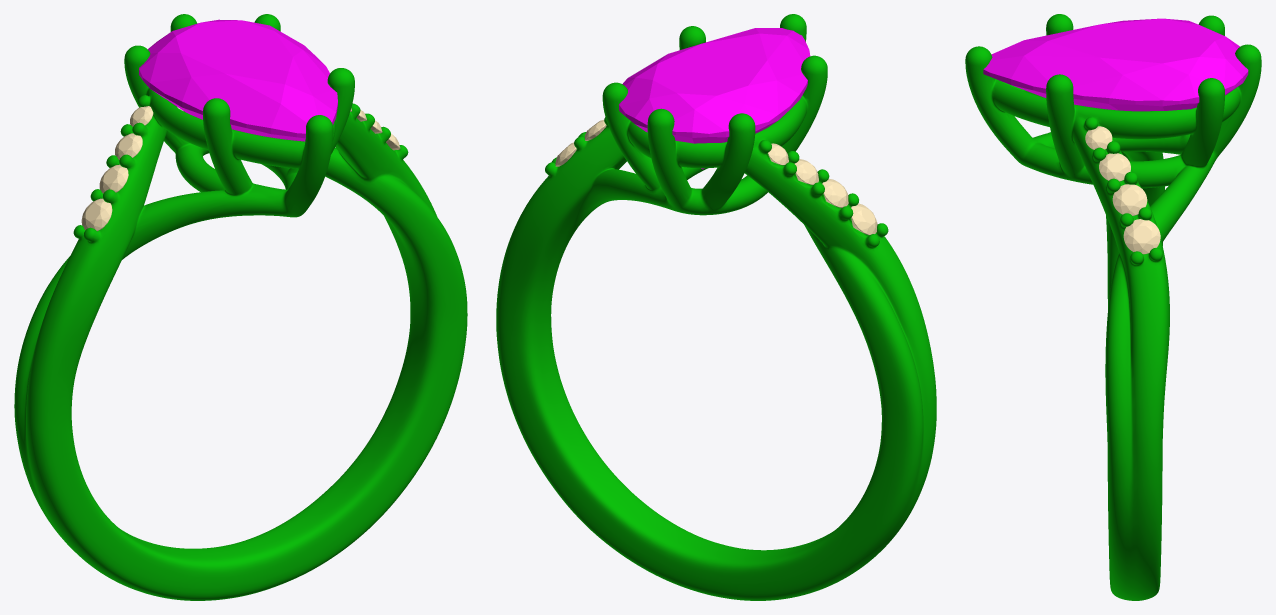
Rendered from BE1AS8PD08_PE_200ct_RENDER.glb.
The picture shows the model from 3 angles, left to right: view 1: azimuth 30°, elevation 25°; view 2: azimuth 150°, elevation 25°; view 3: azimuth 270°, elevation 25°; orthographic projection. The views are drawn at different scales.
Parts seen in each view (by area): view 1: Metal 01, CS_Diamond_Pear, Diamond_Round_Gem_SH, Diamond_Round_Gem_SH.001; view 2: Metal 01, CS_Diamond_Pear, Diamond_Round_Gem_SH; view 3: Metal 01, CS_Diamond_Pear, Diamond_Round_Gem_SH.007, Diamond_Round_Gem_SH.006, Diamond_Round_Gem_SH.005, Diamond_Round_Gem_SH.004.
Boxes of the visible parts, <box> form: Metal 01: <box>14,14,467,600</box>; CS_Diamond_Pear: <box>139,19,337,141</box>; Diamond_Round_Gem_SH: <box>81,198,112,231</box>; Diamond_Round_Gem_SH.001: <box>99,164,128,193</box>; Metal 01: <box>496,14,936,600</box>; CS_Diamond_Pear: <box>619,28,810,169</box>; Diamond_Round_Gem_SH: <box>851,203,877,235</box>; Metal 01: <box>965,14,1261,600</box>; CS_Diamond_Pear: <box>983,18,1248,111</box>; Diamond_Round_Gem_SH.007: <box>1123,219,1160,254</box>; Diamond_Round_Gem_SH.006: <box>1112,184,1147,215</box>; Diamond_Round_Gem_SH.005: <box>1099,153,1130,181</box>; Diamond_Round_Gem_SH.004: <box>1085,126,1112,149</box>.
Bounding box in the file's own units: 20.24 × 23.98 × 12.
